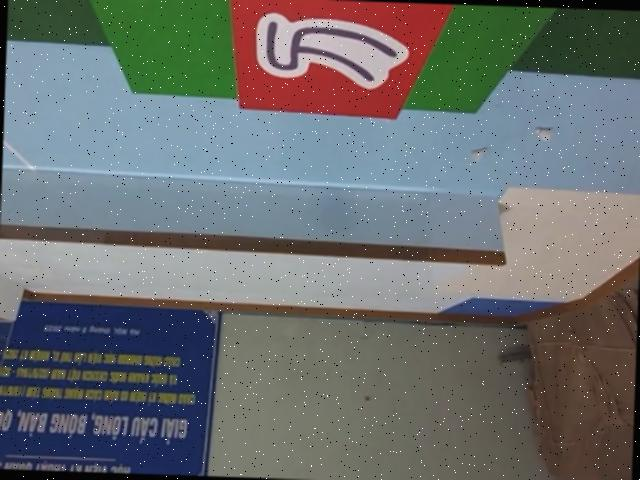R2 Fake: (224, 0, 473, 126)
